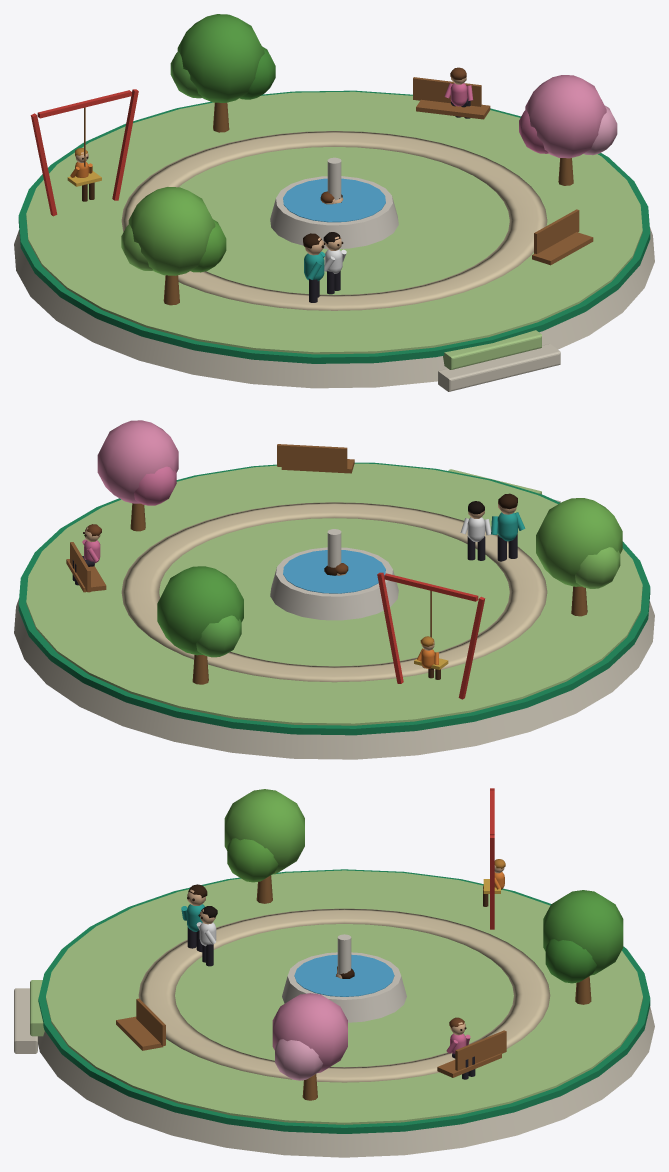
The model's file is park.glb.
3 renders of one model, top to bottom at view 1: azimuth 30°, elevation 25°; view 2: azimuth 150°, elevation 25°; view 3: azimuth 270°, elevation 25°, orthographic. The views are drawn at different scales.
Parts seen in each view (by area): view 1: part_000, part_003; view 2: part_000, part_003; view 3: part_000.
Boxes of the visible parts, box(x1,y1,x2,y2) form: part_000: box(14, 14, 654, 391); part_003: box(70, 148, 94, 201); part_000: box(14, 420, 654, 759); part_003: box(417, 636, 440, 679); part_000: box(14, 788, 654, 1157).
Bounding box in the file's own units: 10.92 × 2.71 × 11.27.
